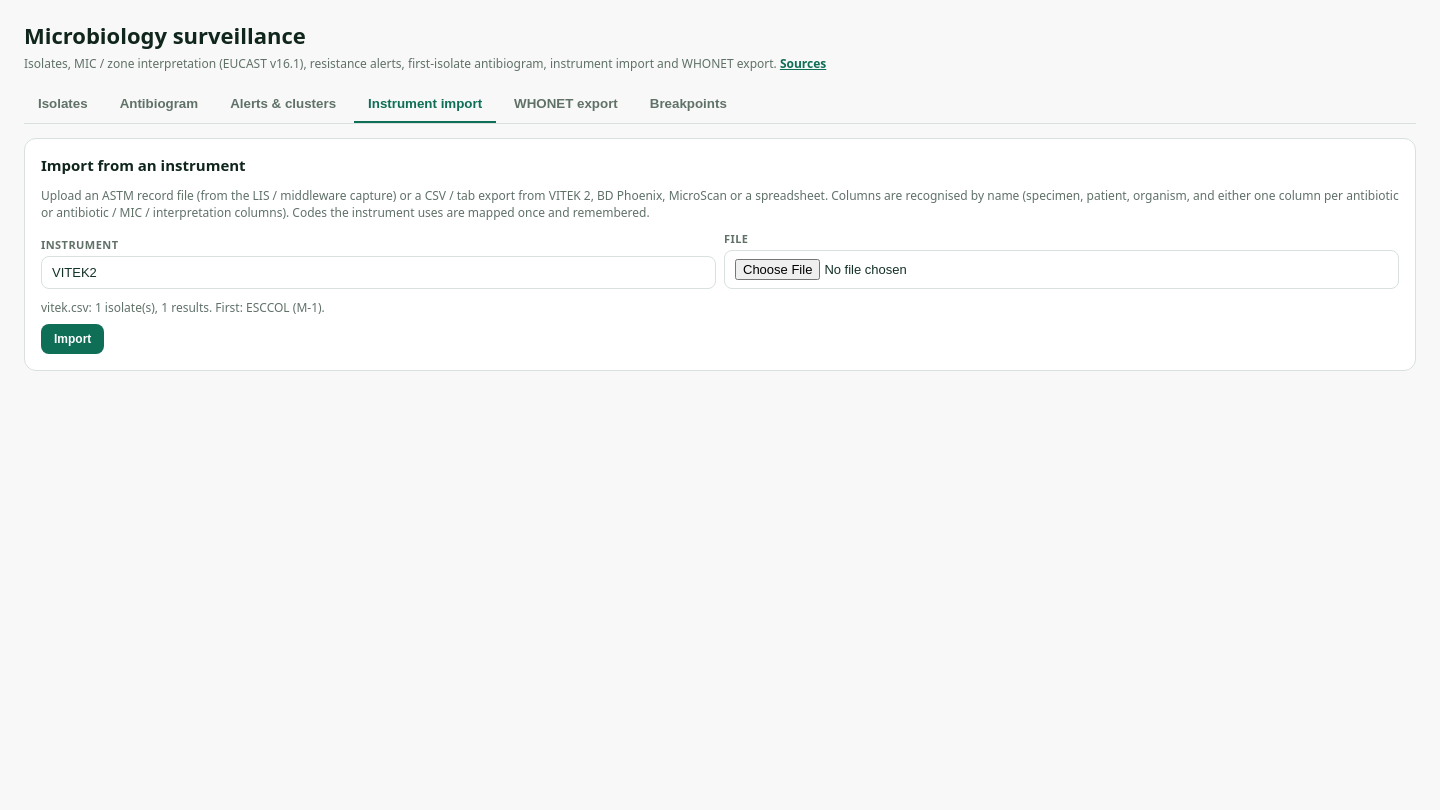
Test: microbiology surveillance screen › imports an instrument CSV and maps a code the database did not recognise
Earlier steps of the test are not shown.
Click the button "Import".
click(73, 339)  # box [41, 324, 104, 354]
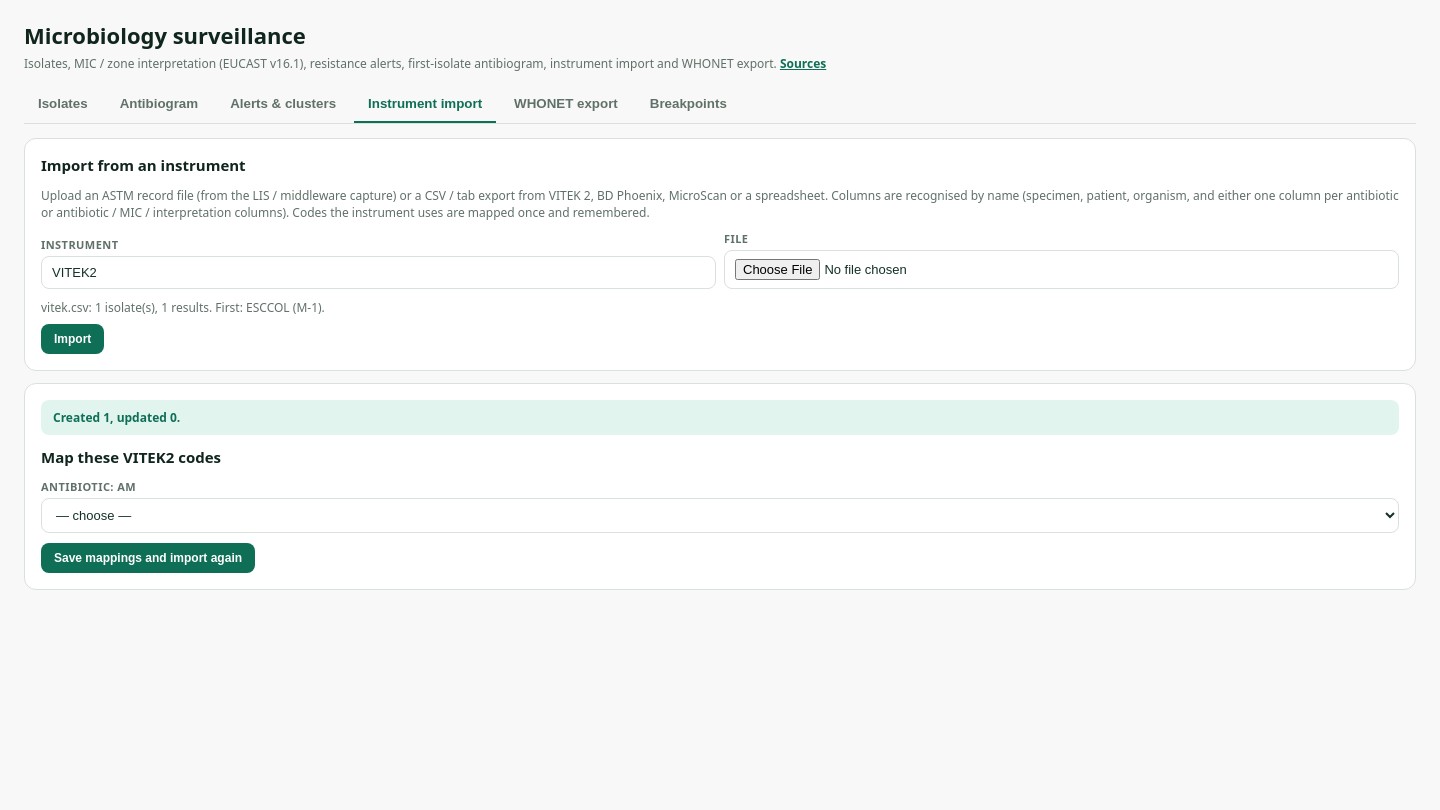
Select "Ampicillin (AMP)" in the dropdown labelled "antibiotic: AM" at {"x": 720, "y": 516}, box [41, 498, 1399, 533]
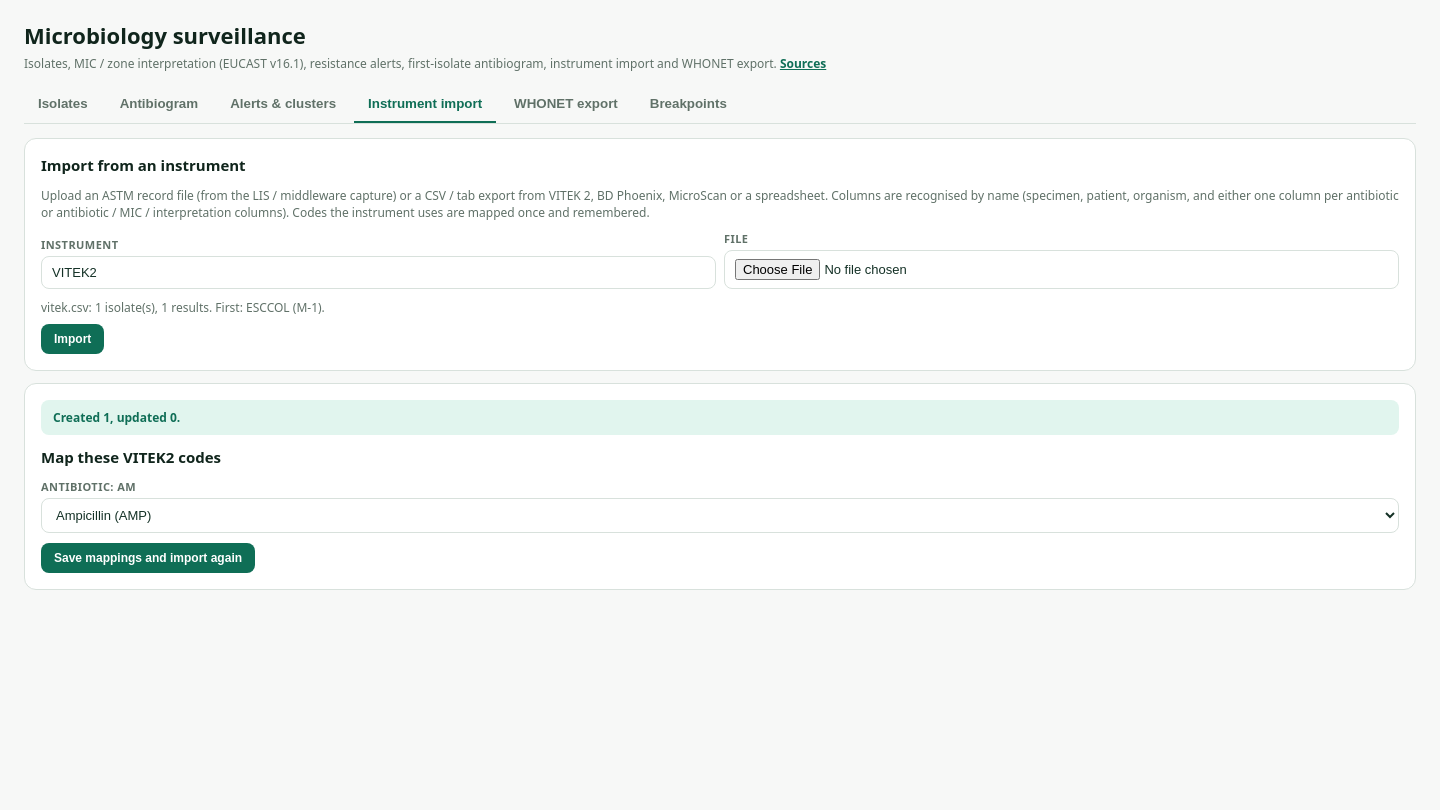
Click the button "Save mappings and import again".
click(148, 558)  # box [41, 543, 255, 573]
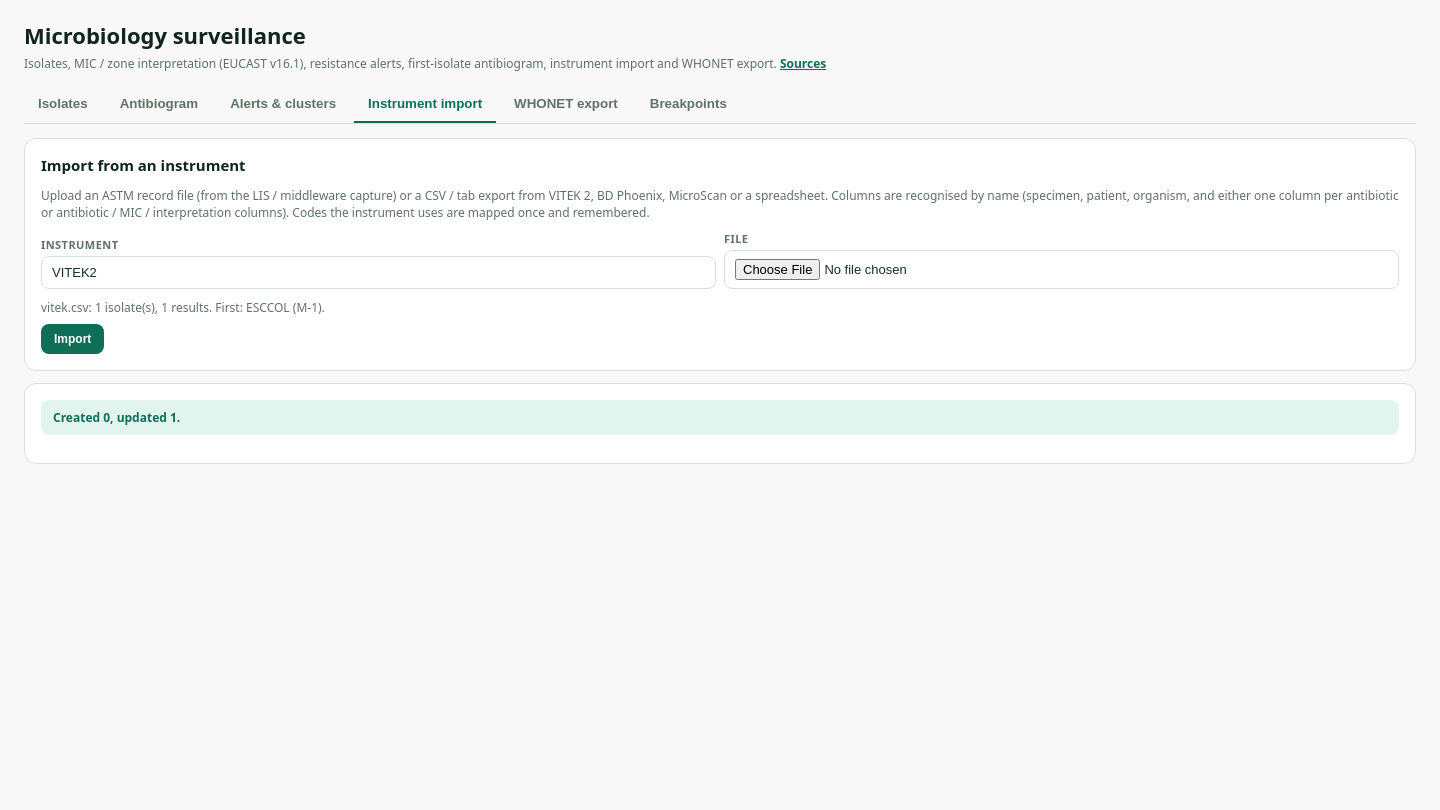
Expected: the text "Created 0, updated 1." is shown, [41, 400, 1399, 435]
